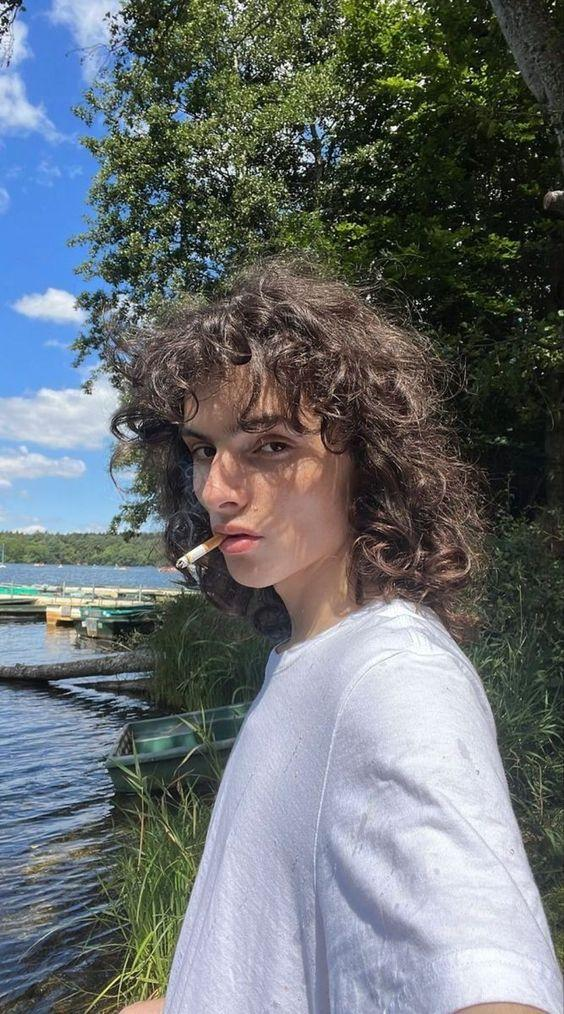cigarette: (176, 534, 232, 569)
